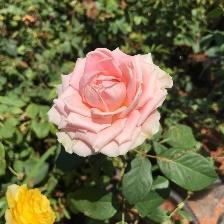rose: (46, 46, 175, 159)
